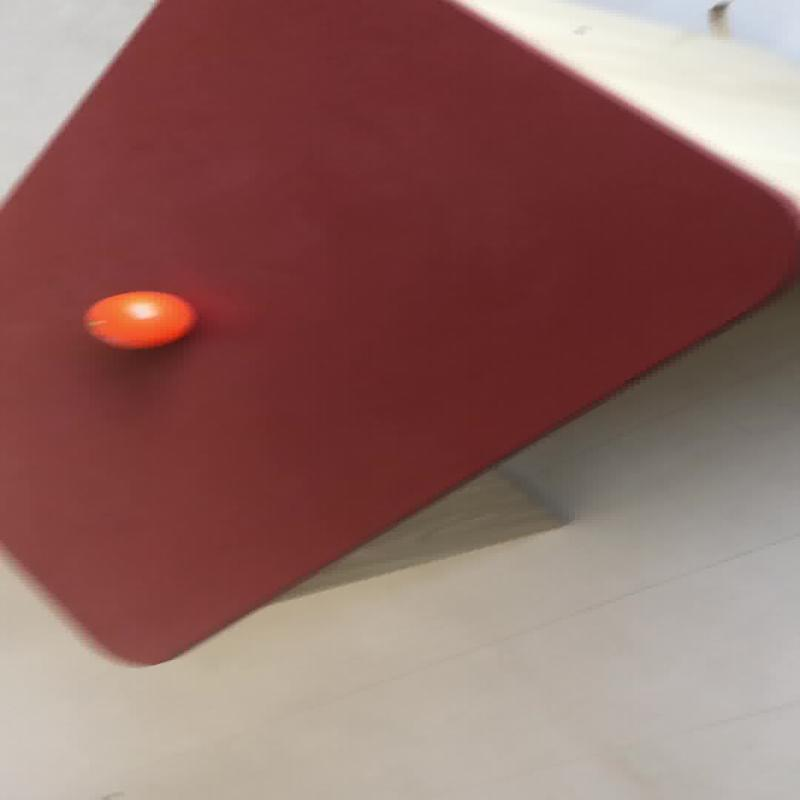orange: (82, 290, 196, 349)
